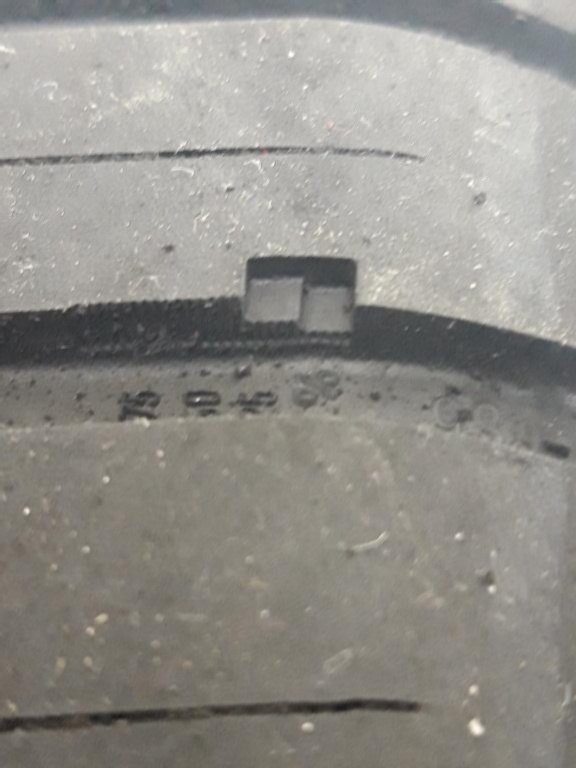temoin:50: (180, 245, 387, 365)
